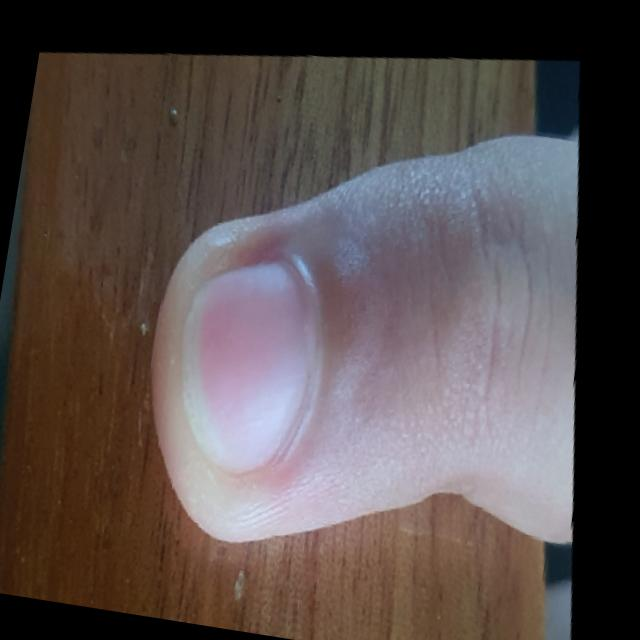Nail: (176, 261, 307, 469)
